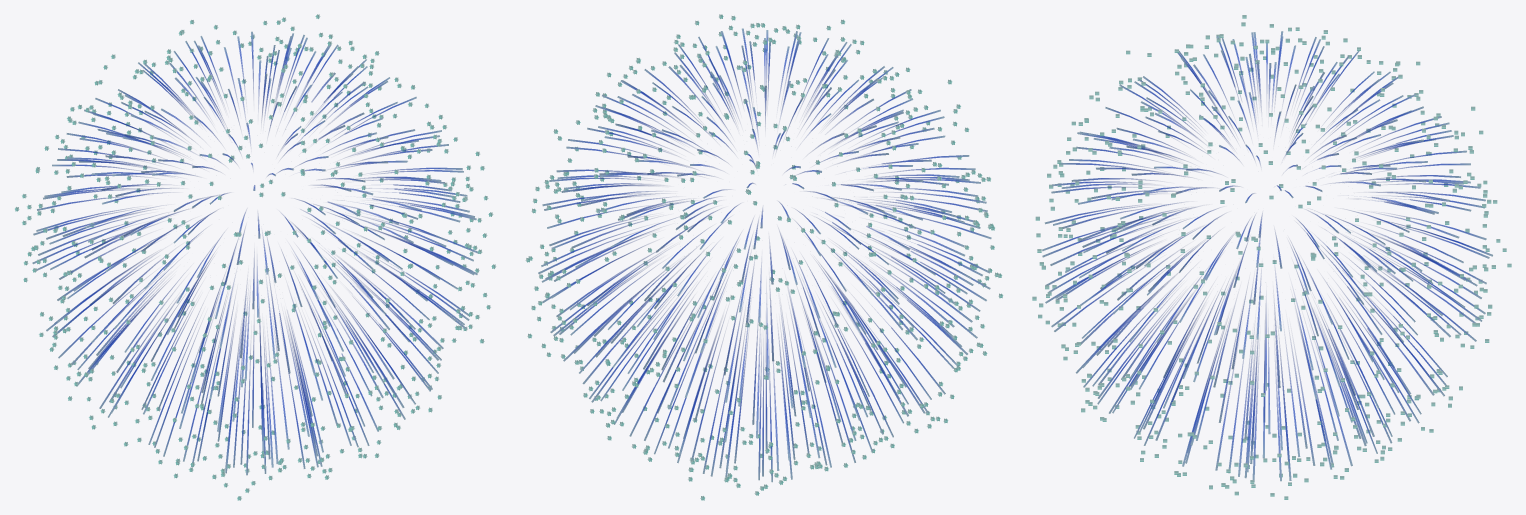
The model's file is fw_chrys_blue_teal_b.glb.
The picture shows the model from 3 angles, left to right: view 1: azimuth 30°, elevation 25°; view 2: azimuth 150°, elevation 25°; view 3: azimuth 270°, elevation 25°; orthographic projection.
Visible parts, largest first — view 1: spire; view 2: spire; view 3: spire.
Boxes of the visible parts, x1,y1,x2,y2 form: spire: (15,14,496,500); spire: (525,14,1003,500); spire: (1032,15,1511,499).
Size of the model in its own units: 24.5 by 25.44 by 24.99.
2 materials, 2 textured.
